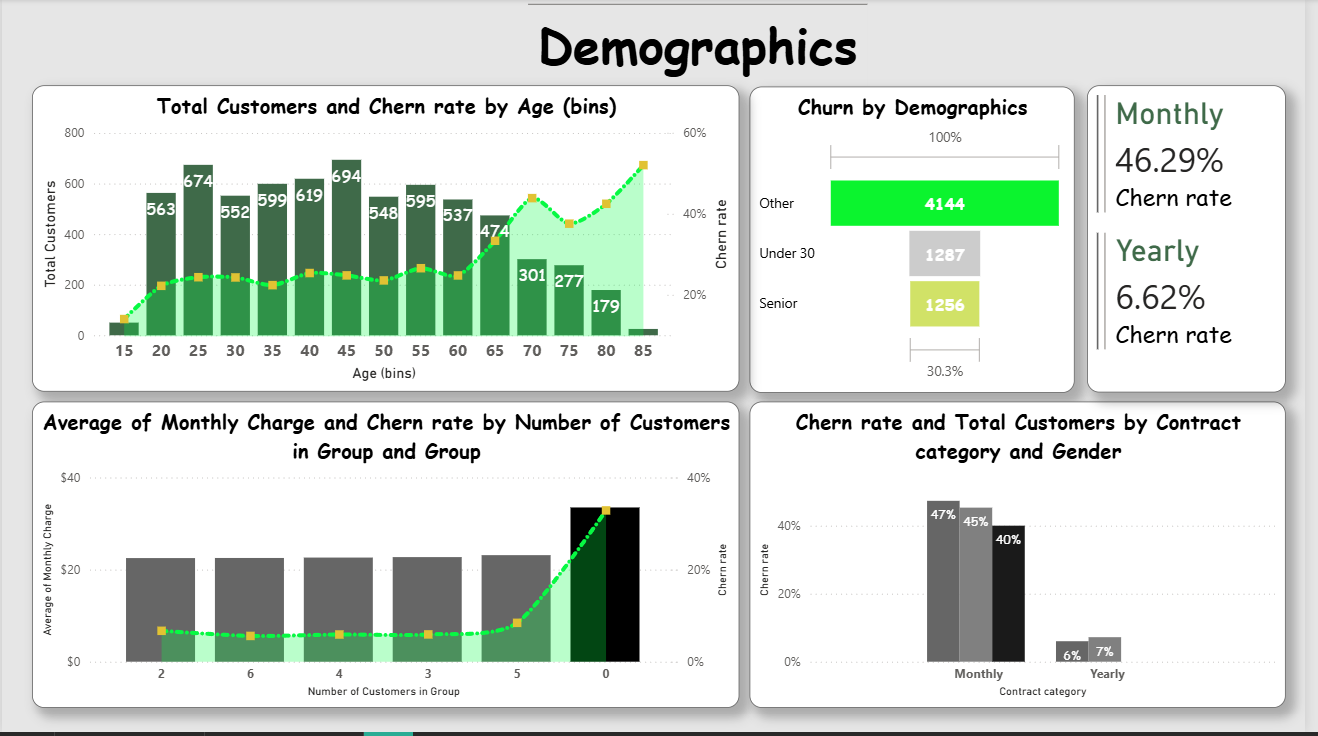

The page's visual inventory and layout, read from the dashboard file:
{"tool":"powerbi","page":{"name":"Demographics","canvas":[1280,720],"ordinal":1},"visuals":[{"type":"textbox","box":[516.6,0,332.5,84.7],"z":0},{"type":"funnel","title":"Churn by Demographics","fields":{"Category":["Databel - Data.Demographics"],"Y":["_Mesusres.Total Customers"]},"box":[733.7,85.9,319,300.6],"z":1000},{"type":"lineStackedColumnComboChart","fields":{"Y":["_Mesusres.Total Customers"],"Category":["Databel - Data.Age (bins)"],"Y2":["_Mesusres.Chern rate"]},"box":[29.4,84.7,694.5,300.6],"z":2000},{"type":"lineStackedColumnComboChart","fields":{"Y":["Avg(Databel - Data.Monthly Charge)"],"Category":["Databel - Data.Number of Customers in Group"],"Y2":["_Mesusres.Chern rate"],"Series":["Databel - Data.Group"]},"box":[29.4,395.1,694.5,300.6],"z":3000},{"type":"clusteredColumnChart","fields":{"Category":["Databel - Data.Contract category"],"Y":["_Mesusres.Chern rate"],"Series":["Databel - Data.Gender"]},"box":[733.7,395.1,526.4,300.6],"z":4000},{"type":"multiRowCard","fields":{"Values":["Databel - Data.Contract category","_Mesusres.Chern rate"]},"box":[1065,84.7,195.1,301.8],"z":5000}]}

Visuals, with their boxes in screenshot pixels (x1, y1, x2, y2), scaled from the page's 1280x720 canvas onto the 1318x736 screenshot:
textbox: [left=532, top=0, right=874, bottom=87]
"Churn by Demographics" funnel: [left=755, top=88, right=1084, bottom=395]
lineStackedColumnComboChart - _Mesusres.Total Customers x Databel - Data.Age (bins): [left=30, top=87, right=745, bottom=394]
lineStackedColumnComboChart - Avg(Databel - Data.Monthly Charge) x Databel - Data.Number of Customers in Group: [left=30, top=404, right=745, bottom=711]
clusteredColumnChart - Databel - Data.Contract category x _Mesusres.Chern rate: [left=755, top=404, right=1298, bottom=711]
multiRowCard - Databel - Data.Contract category x _Mesusres.Chern rate: [left=1097, top=87, right=1298, bottom=395]
